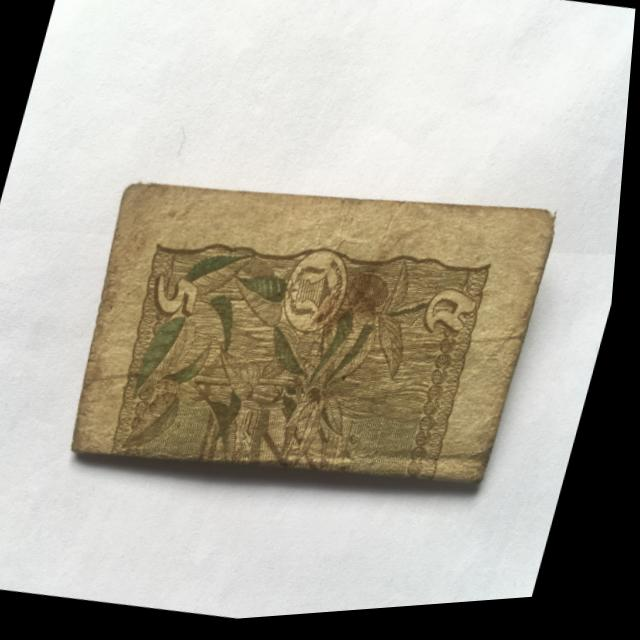Taka: (48, 135, 581, 541)
